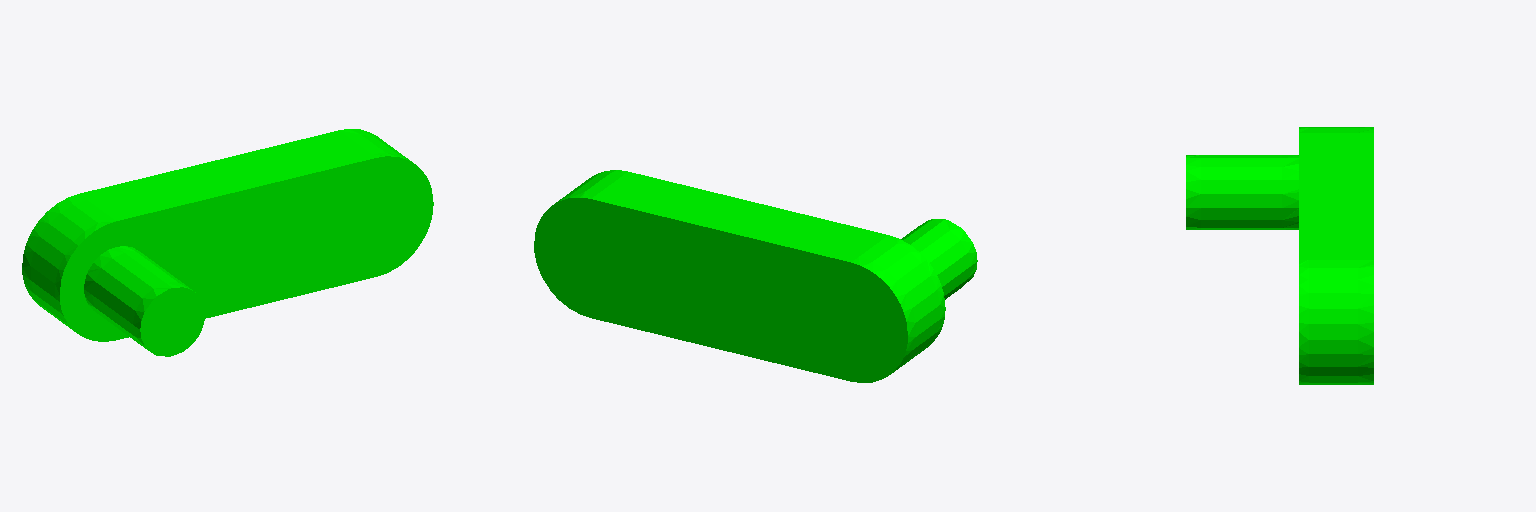
The model's file is body3.obj.
3 renders of one model, left to right at view 1: azimuth 30°, elevation 25°; view 2: azimuth 150°, elevation 25°; view 3: azimuth 270°, elevation 25°, orthographic.
Visible parts, largest first — view 1: 1; view 2: 1; view 3: 1.
Boxes of the visible parts, x1=… form: 1: x1=22, y1=129, x2=433, y2=356; 1: x1=534, y1=170, x2=977, y2=382; 1: x1=1186, y1=127, x2=1373, y2=384.
Bounding box in the file's own units: 115 × 35 × 50.